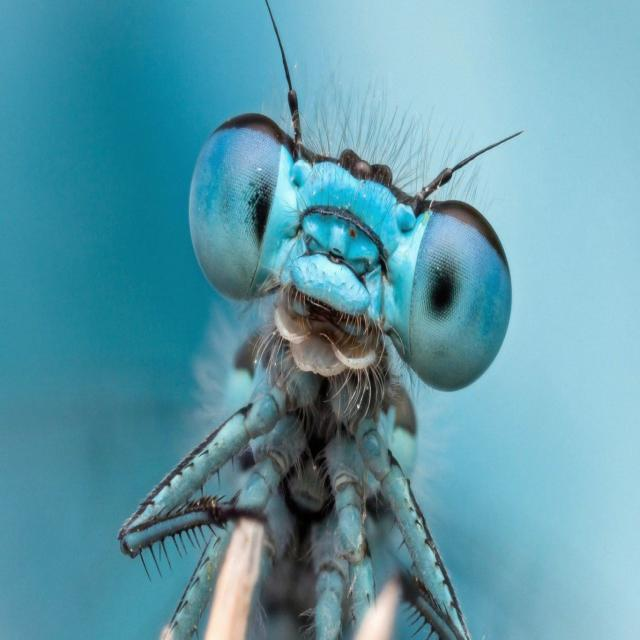dragonfly: (119, 0, 519, 639)
